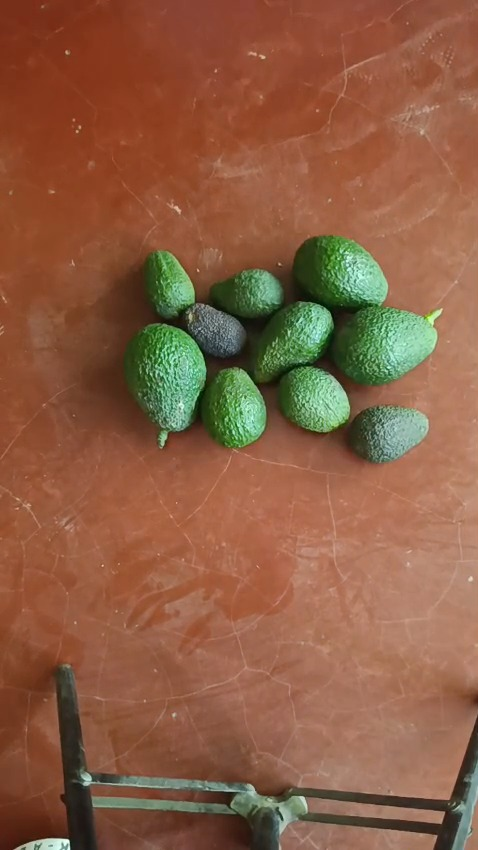Primera: (332, 304, 439, 385), (124, 323, 205, 429)
Segunda: (292, 235, 388, 312), (250, 301, 335, 384)
Tercera: (201, 366, 267, 447), (276, 364, 350, 432), (346, 404, 430, 463), (210, 269, 284, 320), (179, 303, 246, 359), (143, 250, 195, 321)
